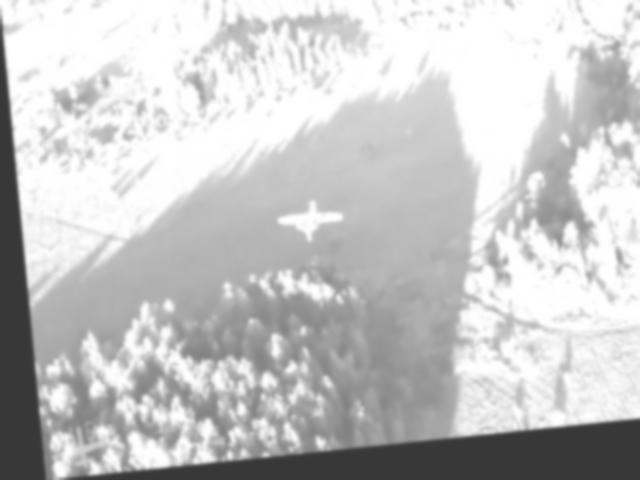hedef: (268, 203, 344, 253)
